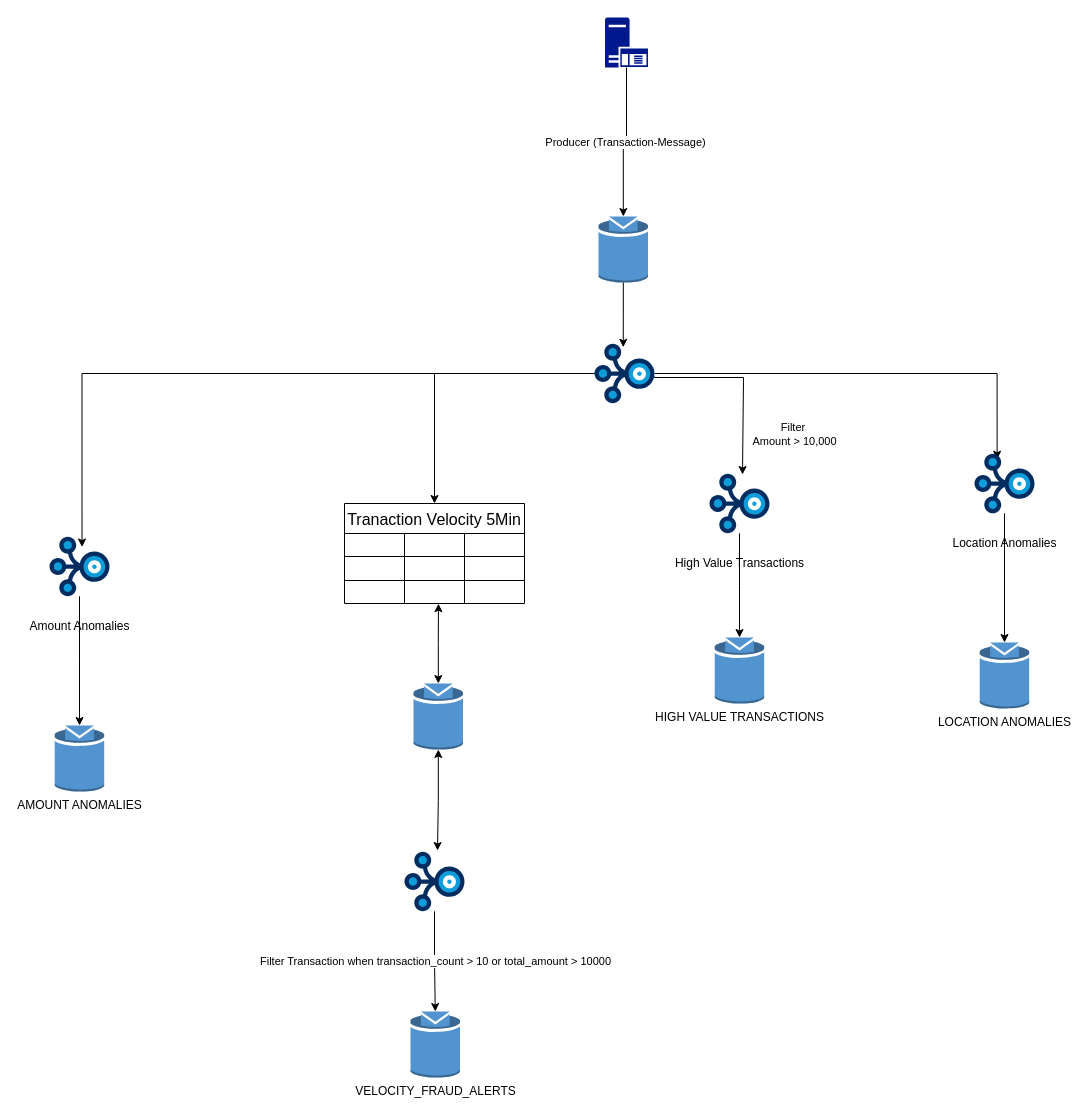
Image size: 1088x1115. Some labels were removed from this diagram. Here are the shapes that lost their labels. From the top down, the centre of each, then its label:
At (x=624, y=373): "Transaction Stream".
At (x=437, y=716): "TRANSACTION_VELOCITY_5MIN".
At (x=434, y=881): "TRANSACTION VELOCITY STREAM".
